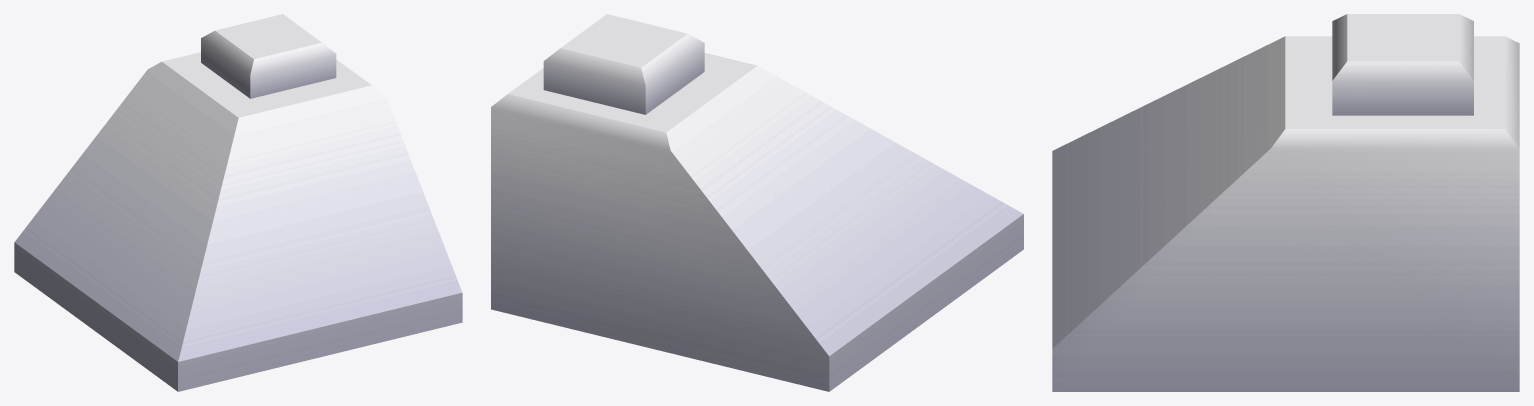
The model's file is brick-kit--square-hq-brick-slope-corner-outside-2x2.glb.
3 renders of one model, left to right at view 1: azimuth 30°, elevation 25°; view 2: azimuth 150°, elevation 25°; view 3: azimuth 270°, elevation 25°, orthographic. The views are drawn at different scales.
Parts seen in each view (by area): view 1: square-hq-brick-slope-corner-outside-2x2; view 2: square-hq-brick-slope-corner-outside-2x2; view 3: square-hq-brick-slope-corner-outside-2x2.
Boxes of the visible parts, x1,y1,x2,y2 form: square-hq-brick-slope-corner-outside-2x2: (14, 14, 462, 391); square-hq-brick-slope-corner-outside-2x2: (491, 14, 1023, 391); square-hq-brick-slope-corner-outside-2x2: (1052, 14, 1519, 391).
Bounding box in the file's own units: 0.159 × 0.114 × 0.1585.
Materials: 1 (1 with a texture image).
